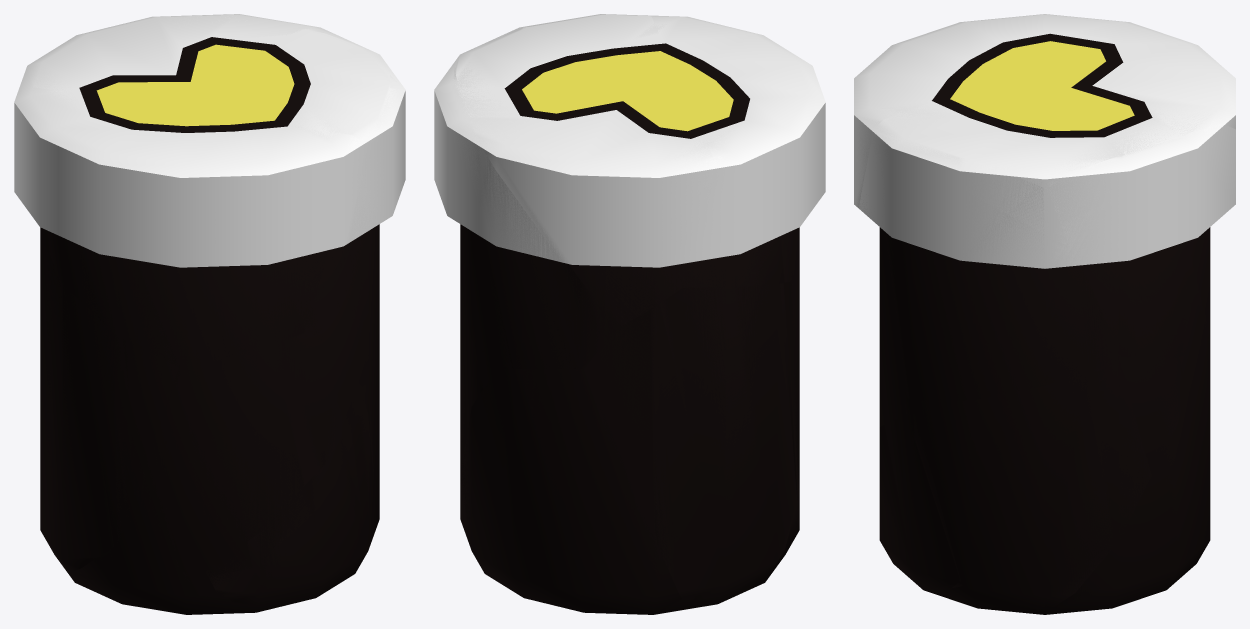
The model's file is Gift2.fbx.
3 renders of one model, left to right at view 1: azimuth 30°, elevation 25°; view 2: azimuth 150°, elevation 25°; view 3: azimuth 270°, elevation 25°, orthographic.
Visible parts, largest first — view 1: Cylinder004, Cylinder004_Part_5, Cylinder004_Part_9, Cylinder004_Part_3, Cylinder004_Part_8, Cylinder004_Part_7, Cylinder004_Part_2, Cylinder004_Part_10, Cylinder004_Part_1; view 2: Cylinder004, Cylinder004_Part_8, Cylinder004_Part_9, Cylinder004_Part_6, Cylinder004_Part_5, Cylinder004_Part_4, Cylinder004_Part_1; view 3: Cylinder004, Cylinder004_Part_2, Cylinder004_Part_1, Cylinder004_Part_4, Cylinder004_Part_9, Cylinder004_Part_5, Cylinder004_Part_6, Cylinder004_Part_7.
Boxes of the visible parts, x1,y1,x2,y2 form: Cylinder004: [14, 14, 405, 614]; Cylinder004_Part_5: [14, 88, 366, 367]; Cylinder004_Part_9: [23, 15, 390, 144]; Cylinder004_Part_3: [137, 337, 363, 567]; Cylinder004_Part_8: [42, 246, 164, 570]; Cylinder004_Part_7: [207, 401, 370, 608]; Cylinder004_Part_2: [306, 67, 405, 381]; Cylinder004_Part_10: [63, 522, 377, 613]; Cylinder004_Part_1: [362, 331, 379, 495]; Cylinder004: [434, 23, 825, 614]; Cylinder004_Part_8: [586, 281, 799, 608]; Cylinder004_Part_9: [455, 14, 713, 327]; Cylinder004_Part_6: [460, 366, 688, 614]; Cylinder004_Part_5: [647, 15, 825, 287]; Cylinder004_Part_4: [436, 67, 617, 369]; Cylinder004_Part_1: [460, 295, 498, 470]; Cylinder004: [854, 16, 1227, 612]; Cylinder004_Part_2: [859, 135, 1119, 400]; Cylinder004_Part_1: [908, 349, 1197, 614]; Cylinder004_Part_4: [1047, 125, 1235, 357]; Cylinder004_Part_9: [872, 38, 1235, 188]; Cylinder004_Part_5: [854, 14, 1109, 207]; Cylinder004_Part_6: [1039, 333, 1210, 614]; Cylinder004_Part_7: [879, 419, 957, 595].
Bounding box in the file's own units: 3.37e-06 × 4.35e-06 × 3.28e-06.
